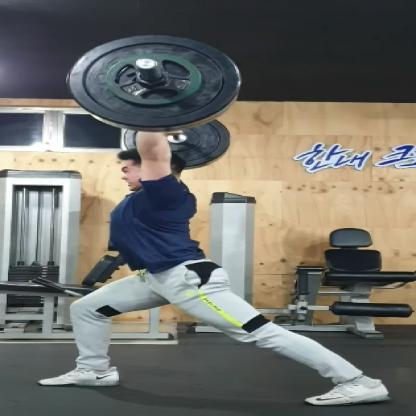Barbell: (68, 31, 255, 135)
